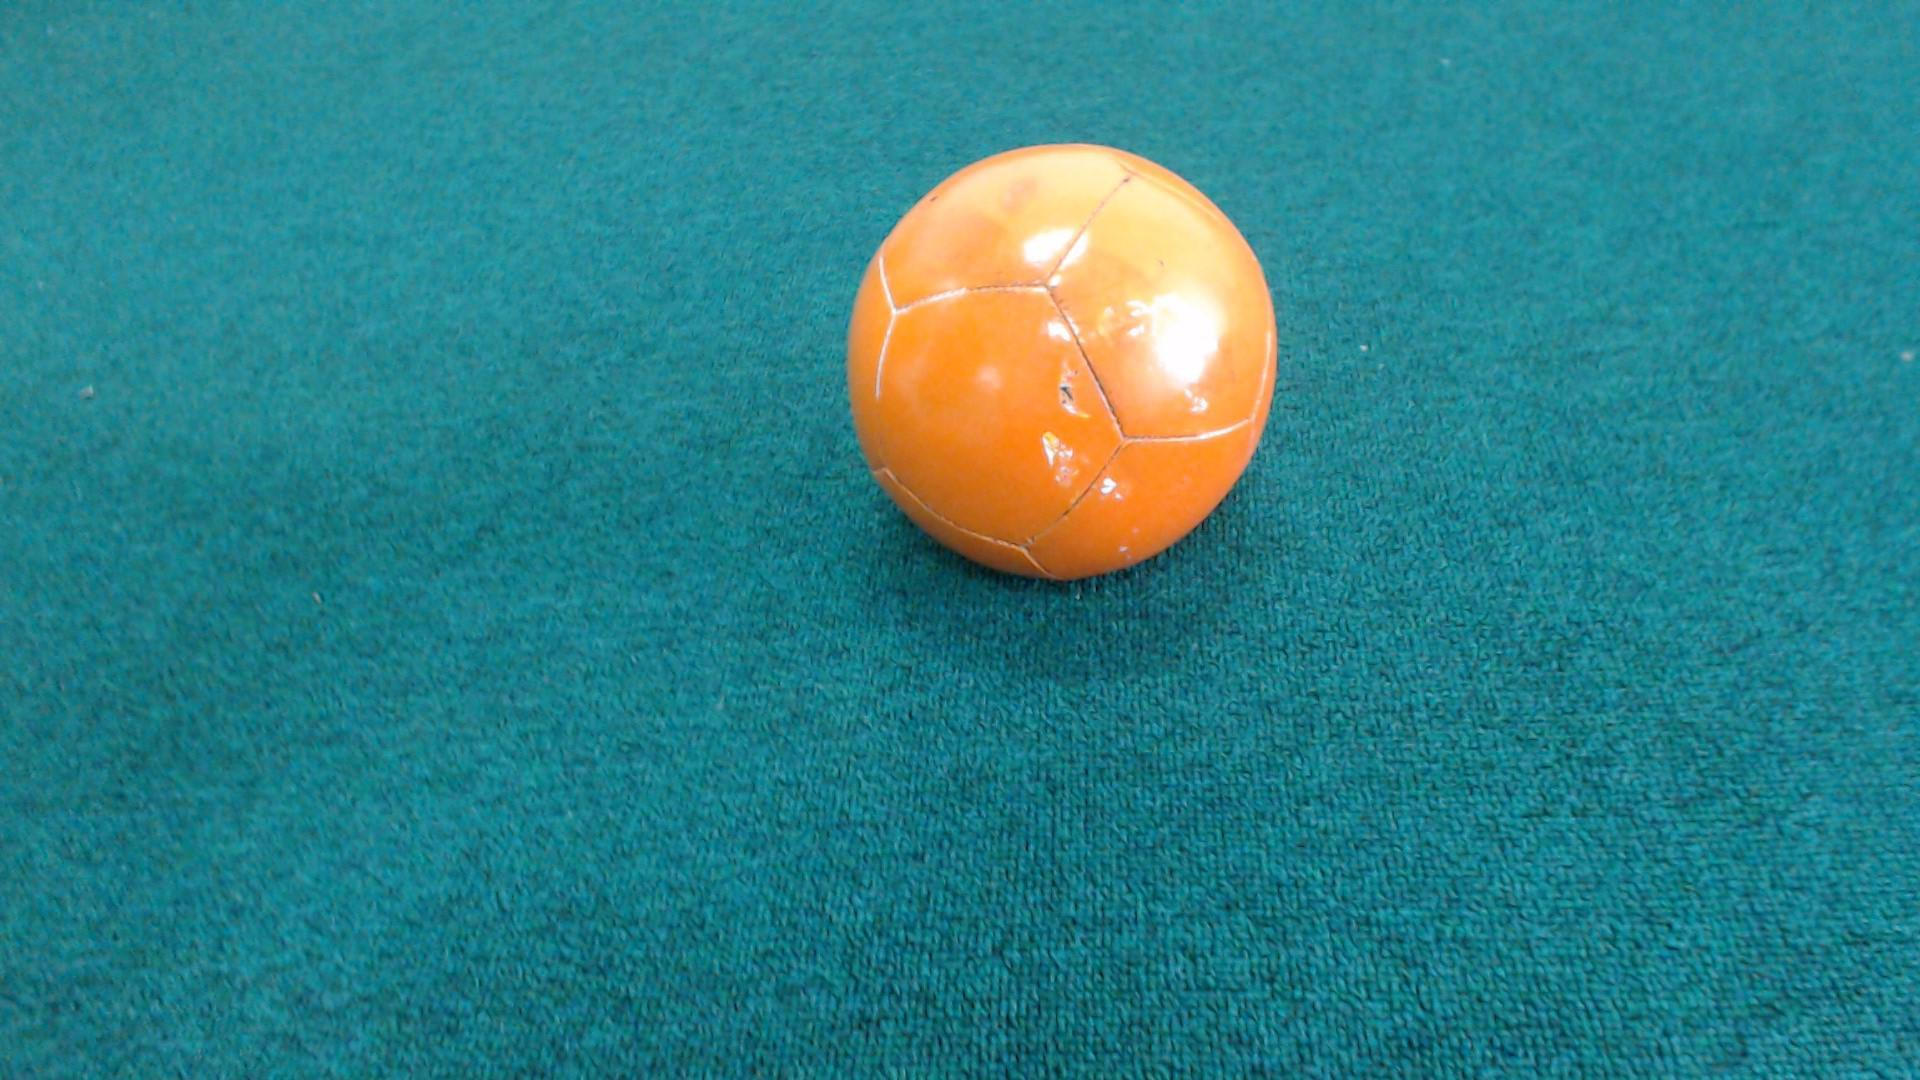bola: (790, 140, 1303, 593)
